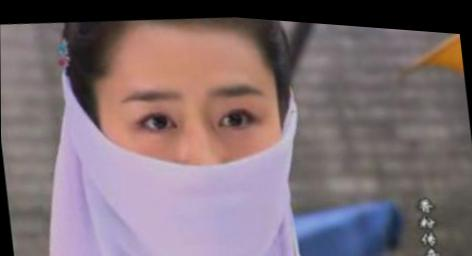WRONG: (103, 65, 289, 250)
